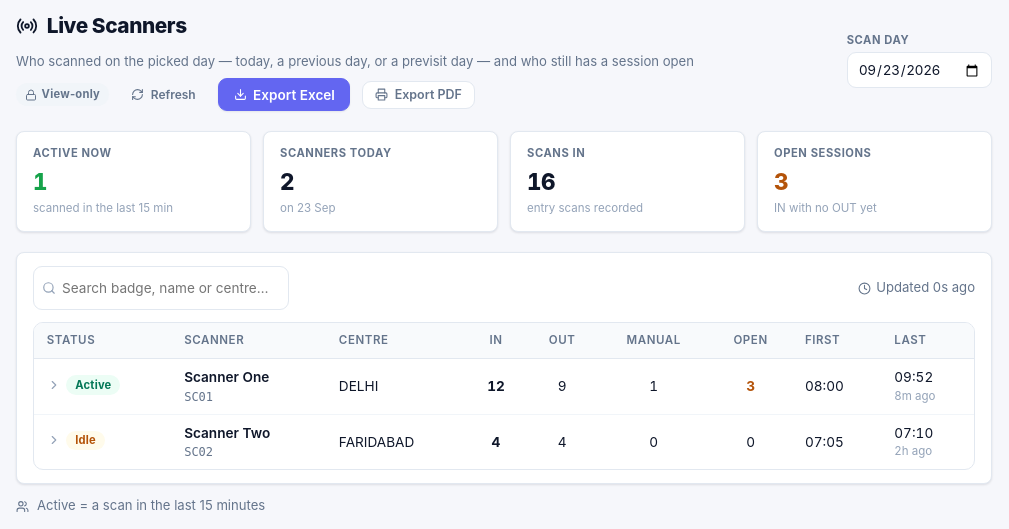
Test: scanned — a valid scan on a non-today date is neutral, never Idle › renders the neutral Scanned pill instead of amber Idle
Type "2026-09-22" into the date field named "Scan day".
click(919, 70); type("2026-09-22")  # box top-left (847, 52), bottom-right (992, 88)
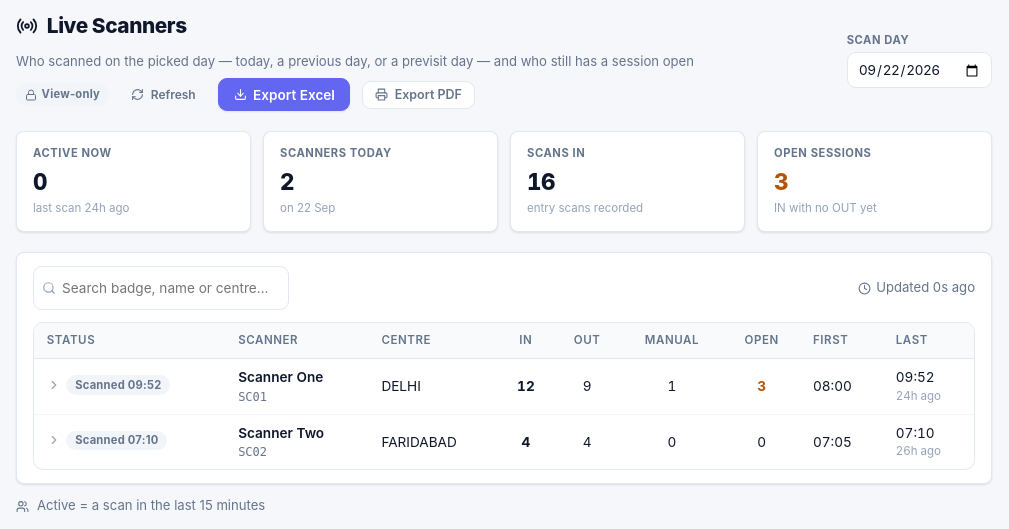
Now the text "Scanned 07:10" is shown, box top-left (66, 431), bottom-right (167, 450)
Now the button "Idle" is gone
